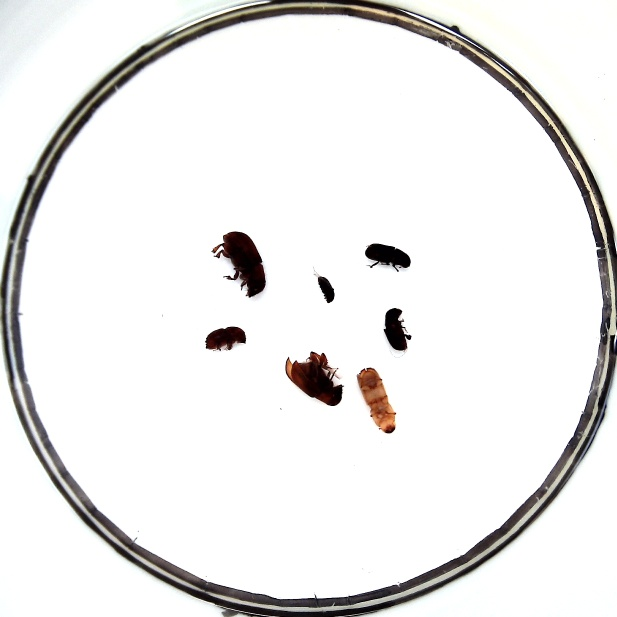armandi: (383, 308, 412, 351), (365, 243, 411, 269)
boerner: (356, 367, 396, 434)
coleoptera: (317, 276, 335, 303)
leconte: (285, 351, 342, 406), (222, 231, 266, 297)
linnaeus: (205, 326, 246, 350)
